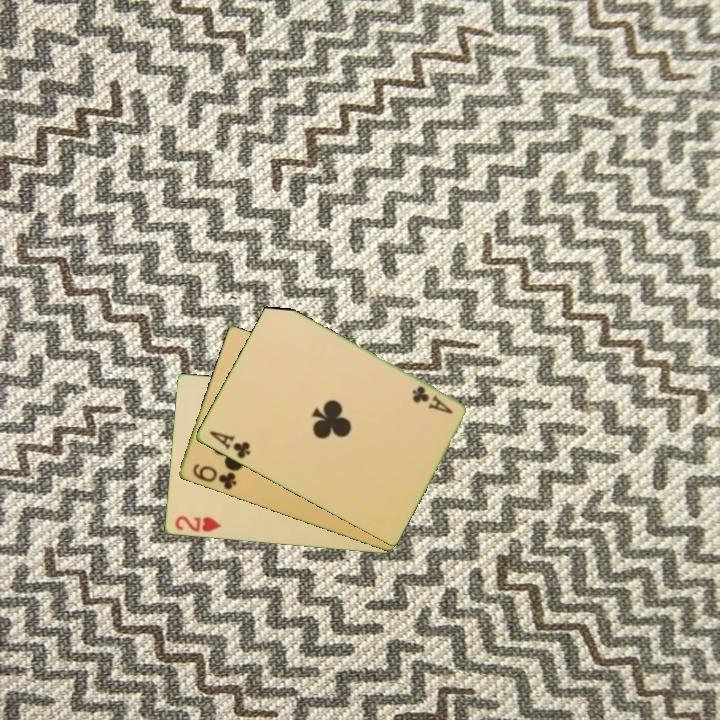2h: (171, 512, 224, 535)
6c: (189, 460, 239, 493)
Ac: (206, 427, 253, 462), (408, 382, 455, 417)
